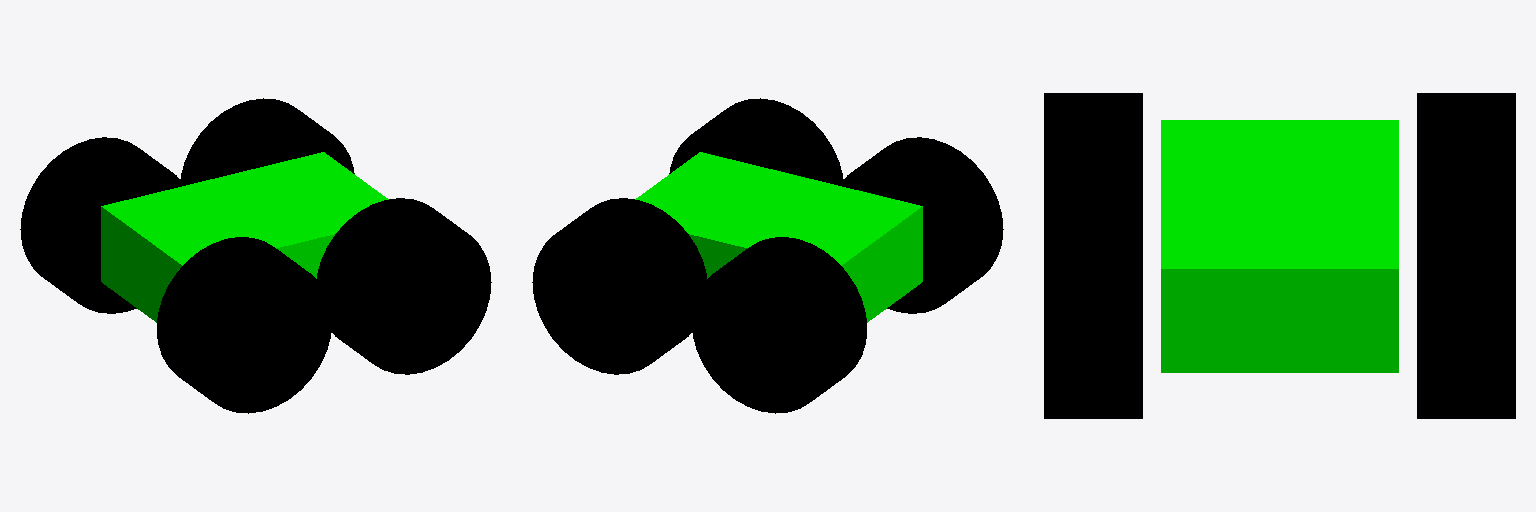
robot.urdf — mobile_manipulator:
<?xml version="1.0" encoding="utf-8"?>
<!-- =================================================================================== -->
<!-- |    This document was autogenerated by xacro from [local-path]/exp_ws/src/moma/moma_description/urdf/swaco.urdf.xacro | -->
<!-- |    EDITING THIS FILE BY HAND IS NOT RECOMMENDED                                 | -->
<!-- =================================================================================== -->
<robot name="mobile_manipulator">
  <!-- Materials -->
  <material name="black">
    <color rgba="0 0 0 255"/>
  </material>
  <material name="dark_grey">
    <color rgba="0 0 0 155 255"/>
  </material>
  <material name="blue">
    <color rgba="0 0 200 255"/>
  </material>
  <material name="green">
    <color rgba="0 200 0 255"/>
  </material>
  <material name="grey">
    <color rgba="50 50 50 255"/>
  </material>
  <material name="orange">
    <color rgba="255 108 10 255"/>
  </material>
  <material name="brown">
    <color rgba="222 207 195 255"/>
  </material>
  <material name="red">
    <color rgba="200 0 0 255"/>
  </material>
  <material name="white">
    <color rgba="255 255 255 255"/>
  </material>
  <link name="base">
    <collision>
      <origin rpy="0 0 0" xyz="0 0 0"/>
      <geometry>
        <box size="0.605 0.41 0.197"/>
      </geometry>
    </collision>
    <visual>
      <origin rpy="0 0 0" xyz="0 0 0"/>
      <geometry>
        <box size="0.605 0.41 0.197"/>
      </geometry>
      <material name="green"/>
    </visual>
  </link>
  <gazebo reference="base">
    <material>Gazebo/Green</material>
  </gazebo>
  <!-- Fixed joint to add dummy inertia link -->
  <joint name="base_to_base_inertia" type="fixed">
    <parent link="base"/>
    <child link="base_inertia"/>
    <origin rpy="0 0 0" xyz="0 0 0"/>
  </joint>
  <!-- Dummy inertia link, because KDL cannot have inertia on the base link -->
  <link name="base_inertia">
    <inertial>
      <origin rpy="0 0 0" xyz="0 0 0"/>
      <mass value="40"/>
      <inertia ixx="0.689696666667" ixy="0" ixz="0" iyy="1.34944666667" iyz="0" izz="1.34944666667"/>
    </inertial>
  </link>
  <joint name="FL_WHEEL" type="continuous">
    <parent link="base"/>
    <child link="FL_WHEEL"/>
    <origin rpy="-1.57079632679 0 0" xyz="0.2159 0.32 -0.0185"/>
    <axis rpy="0 0 0" xyz="0 0 1"/>
    <dynamics damping="1.0" friction="0.0"/>
    <limit effort="1000" velocity="1000"/>
    <joint_properties damping="0.2" friction="0.2"/>
  </joint>
  <link name="FL_WHEEL">
    <collision>
      <origin rpy="0 0 0" xyz="0 0 0"/>
      <geometry>
        <cylinder length="0.017" radius="0.19"/>
      </geometry>
    </collision>
    <visual>
      <origin rpy="0 0 0" xyz="0 0 0"/>
      <geometry>
        <cylinder length="0.17" radius="0.19"/>
      </geometry>
      <material name="black"/>
    </visual>
    <inertial>
      <origin rpy="0 0 0" xyz="0 0 0"/>
      <mass value="5"/>
      <inertia ixx="0.0571666666667" ixy="0" ixz="0" iyy="0.0571666666667" iyz="0" izz="0.09025"/>
    </inertial>
  </link>
  <joint name="FR_WHEEL" type="continuous">
    <parent link="base"/>
    <child link="FR_WHEEL"/>
    <origin rpy="-1.57079632679 0 0" xyz="0.2159 -0.32 -0.0185"/>
    <axis rpy="0 0 0" xyz="0 0 1"/>
    <dynamics damping="1.0" friction="0.0"/>
    <limit effort="1000" velocity="1000"/>
    <joint_properties damping="0.2" friction="0.2"/>
  </joint>
  <link name="FR_WHEEL">
    <collision>
      <origin rpy="0 0 0" xyz="0 0 0"/>
      <geometry>
        <cylinder length="0.017" radius="0.19"/>
      </geometry>
    </collision>
    <visual>
      <origin rpy="0 0 0" xyz="0 0 0"/>
      <geometry>
        <cylinder length="0.17" radius="0.19"/>
      </geometry>
      <material name="black"/>
    </visual>
    <inertial>
      <origin rpy="0 0 0" xyz="0 0 0"/>
      <mass value="5"/>
      <inertia ixx="0.0571666666667" ixy="0" ixz="0" iyy="0.0571666666667" iyz="0" izz="0.09025"/>
    </inertial>
  </link>
  <joint name="BL_WHEEL" type="continuous">
    <parent link="base"/>
    <child link="BL_WHEEL"/>
    <origin rpy="-1.57079632679 0 0" xyz="-0.2159 0.32 -0.0185"/>
    <axis rpy="0 0 0" xyz="0 0 1"/>
    <dynamics damping="1.0" friction="0.0"/>
    <limit effort="1000" velocity="1000"/>
    <joint_properties damping="0.2" friction="0.2"/>
  </joint>
  <link name="BL_WHEEL">
    <collision>
      <origin rpy="0 0 0" xyz="0 0 0"/>
      <geometry>
        <cylinder length="0.017" radius="0.19"/>
      </geometry>
    </collision>
    <visual>
      <origin rpy="0 0 0" xyz="0 0 0"/>
      <geometry>
        <cylinder length="0.17" radius="0.19"/>
      </geometry>
      <material name="black"/>
    </visual>
    <inertial>
      <origin rpy="0 0 0" xyz="0 0 0"/>
      <mass value="5"/>
      <inertia ixx="0.0571666666667" ixy="0" ixz="0" iyy="0.0571666666667" iyz="0" izz="0.09025"/>
    </inertial>
  </link>
  <joint name="BR_WHEEL" type="continuous">
    <parent link="base"/>
    <child link="BR_WHEEL"/>
    <origin rpy="-1.57079632679 0 0" xyz="-0.2159 -0.32 -0.0185"/>
    <axis rpy="0 0 0" xyz="0 0 1"/>
    <dynamics damping="1.0" friction="0.0"/>
    <limit effort="1000" velocity="1000"/>
    <joint_properties damping="0.2" friction="0.2"/>
  </joint>
  <link name="BR_WHEEL">
    <collision>
      <origin rpy="0 0 0" xyz="0 0 0"/>
      <geometry>
        <cylinder length="0.017" radius="0.19"/>
      </geometry>
    </collision>
    <visual>
      <origin rpy="0 0 0" xyz="0 0 0"/>
      <geometry>
        <cylinder length="0.17" radius="0.19"/>
      </geometry>
      <material name="black"/>
    </visual>
    <inertial>
      <origin rpy="0 0 0" xyz="0 0 0"/>
      <mass value="5"/>
      <inertia ixx="0.0571666666667" ixy="0" ixz="0" iyy="0.0571666666667" iyz="0" izz="0.09025"/>
    </inertial>
  </link>
  <!-- Run the macros -->
  <link name="base_link">
    <!-- <inertial>
          <origin xyz="-0.000648 -0.000166 0.084487" rpy="0 0 0" />
          <mass value="1.697" />
          <inertia ixx="0.004622" ixy="9E-06" ixz="6E-05" iyy="0.004495" iyz="9E-06" izz="0.002079" />
        </inertial> -->
    <visual>
      <origin rpy="0 0 0" xyz="0 0 0"/>
      <geometry>
        <mesh filename="meshes/base_link.STL"/>
      </geometry>
      <material name="">
        <color rgba="0.75294 0.75294 0.75294 1"/>
      </material>
    </visual>
    <collision>
      <origin rpy="0 0 0" xyz="0 0 0"/>
      <geometry>
        <mesh filename="meshes/base_link.STL"/>
      </geometry>
    </collision>
  </link>
  <link name="base_link_dummy">
    <inertial>
      <origin rpy="0 0 0" xyz="-0.000648 -0.000166 0.084487"/>
      <mass value="1.697"/>
      <inertia ixx="0.004622" ixy="9E-06" ixz="6E-05" iyy="0.004495" iyz="9E-06" izz="0.002079"/>
    </inertial>
  </link>
  <joint name="base_dummy_joint" type="fixed">
    <origin rpy="0.0 0.0 0.0" xyz="0 0 0"/>
    <parent link="base_link"/>
    <child link="base_link_dummy"/>
  </joint>
  <link name="shoulder_link">
    <inertial>
      <origin rpy="0 0 0" xyz="-2.3E-05 -0.010364 -0.07336"/>
      <mass value="1.3773"/>
      <inertia ixx="0.00457" ixy="1E-06" ixz="2E-06" iyy="0.004831" iyz="0.000448" izz="0.001409"/>
    </inertial>
    <visual>
      <origin rpy="0 0 0" xyz="0 0 0"/>
      <geometry>
        <mesh filename="meshes/shoulder_link.STL"/>
      </geometry>
      <material name="">
        <color rgba="0.75294 0.75294 0.75294 1"/>
      </material>
    </visual>
    <collision>
      <origin rpy="0 0 0" xyz="0 0 0"/>
      <geometry>
        <mesh filename="meshes/shoulder_link.STL"/>
      </geometry>
    </collision>
  </link>
  <joint name="joint_1" type="continuous">
    <origin rpy="3.1416 2.7629E-18 -4.9305E-36" xyz="0 0 0.15643"/>
    <parent link="base_link"/>
    <child link="shoulder_link"/>
    <axis xyz="0 0 1"/>
    <limit effort="39" velocity="1.3963"/>
  </joint>
  <link name="half_arm_1_link">
    <inertial>
      <origin rpy="0 0 0" xyz="-4.4E-05 -0.09958 -0.013278"/>
      <mass value="1.1636"/>
      <inertia ixx="0.011088" ixy="5E-06" ixz="0" iyy="0.001072" iyz="-0.000691" izz="0.011255"/>
    </inertial>
    <visual>
      <origin rpy="0 0 0" xyz="0 0 0"/>
      <geometry>
        <mesh filename="meshes/half_arm_1_link.STL"/>
      </geometry>
      <material name="">
        <color rgba="0.75294 0.75294 0.75294 1"/>
      </material>
    </visual>
    <collision>
      <origin rpy="0 0 0" xyz="0 0 0"/>
      <geometry>
        <mesh filename="meshes/half_arm_1_link.STL"/>
      </geometry>
    </collision>
  </link>
  <joint name="joint_2" type="revolute">
    <origin rpy="1.5708 2.1343E-17 -1.1102E-16" xyz="0 0.005375 -0.12838"/>
    <parent link="shoulder_link"/>
    <child link="half_arm_1_link"/>
    <axis xyz="0 0 1"/>
    <limit effort="39" lower="-2.41" upper="2.41" velocity="1.3963"/>
  </joint>
  <link name="half_arm_2_link">
    <inertial>
      <origin rpy="0 0 0" xyz="-4.4E-05 -0.006641 -0.117892"/>
      <mass value="1.1636"/>
      <inertia ixx="0.010932" ixy="0" ixz="-7E-06" iyy="0.011127" iyz="0.000606" izz="0.001043"/>
    </inertial>
    <visual>
      <origin rpy="0 0 0" xyz="0 0 0"/>
      <geometry>
        <mesh filename="meshes/half_arm_2_link.STL"/>
      </geometry>
      <material name="">
        <color rgba="0.75294 0.75294 0.75294 1"/>
      </material>
    </visual>
    <collision>
      <origin rpy="0 0 0" xyz="0 0 0"/>
      <geometry>
        <mesh filename="meshes/half_arm_2_link.STL"/>
      </geometry>
    </collision>
  </link>
  <joint name="joint_3" type="continuous">
    <origin rpy="-1.5708 1.2326E-32 -2.9122E-16" xyz="0 -0.21038 -0.006375"/>
    <parent link="half_arm_1_link"/>
    <child link="half_arm_2_link"/>
    <axis xyz="0 0 1"/>
    <limit effort="39" velocity="1.3963"/>
  </joint>
  <link name="forearm_link">
    <inertial>
      <origin rpy="0 0 0" xyz="-1.8E-05 -0.075478 -0.015006"/>
      <mass value="0.9302"/>
      <inertia ixx="0.008147" ixy="-1E-06" ixz="0" iyy="0.000631" iyz="-0.0005" izz="0.008316"/>
    </inertial>
    <visual>
      <origin rpy="0 0 0" xyz="0 0 0"/>
      <geometry>
        <mesh filename="meshes/forearm_link.STL"/>
      </geometry>
      <material name="">
        <color rgba="0.75294 0.75294 0.75294 1"/>
      </material>
    </visual>
    <collision>
      <origin rpy="0 0 0" xyz="0 0 0"/>
      <geometry>
        <mesh filename="meshes/forearm_link.STL"/>
      </geometry>
    </collision>
  </link>
  <joint name="joint_4" type="revolute">
    <origin rpy="1.5708 -6.6954E-17 -1.6653E-16" xyz="0 0.006375 -0.21038"/>
    <parent link="half_arm_2_link"/>
    <child link="forearm_link"/>
    <axis xyz="0 0 1"/>
    <limit effort="39" lower="-2.66" upper="2.66" velocity="1.3963"/>
  </joint>
  <link name="spherical_wrist_1_link">
    <inertial>
      <origin rpy="0 0 0" xyz="1E-06 -0.009432 -0.063883"/>
      <mass value="0.6781"/>
      <inertia ixx="0.001596" ixy="0" ixz="0" iyy="0.001607" iyz="0.000256" izz="0.000399"/>
    </inertial>
    <visual>
      <origin rpy="0 0 0" xyz="0 0 0"/>
      <geometry>
        <mesh filename="meshes/spherical_wrist_1_link.STL"/>
      </geometry>
      <material name="">
        <color rgba="0.75294 0.75294 0.75294 1"/>
      </material>
    </visual>
    <collision>
      <origin rpy="0 0 0" xyz="0 0 0"/>
      <geometry>
        <mesh filename="meshes/spherical_wrist_1_link.STL"/>
      </geometry>
    </collision>
  </link>
  <joint name="joint_5" type="continuous">
    <origin rpy="-1.5708 2.2204E-16 -6.373E-17" xyz="0 -0.20843 -0.006375"/>
    <parent link="forearm_link"/>
    <child link="spherical_wrist_1_link"/>
    <axis xyz="0 0 1"/>
    <limit effort="9" velocity="1.2218"/>
  </joint>
  <link name="spherical_wrist_2_link">
    <inertial>
      <origin rpy="0 0 0" xyz="1E-06 -0.045483 -0.00965"/>
      <mass value="0.6781"/>
      <inertia ixx="0.001641" ixy="0" ixz="0" iyy="0.00041" iyz="-0.000278" izz="0.001641"/>
    </inertial>
    <visual>
      <origin rpy="0 0 0" xyz="0 0 0"/>
      <geometry>
        <mesh filename="meshes/spherical_wrist_2_link.STL"/>
      </geometry>
      <material name="">
        <color rgba="0.75294 0.75294 0.75294 1"/>
      </material>
    </visual>
    <collision>
      <origin rpy="0 0 0" xyz="0 0 0"/>
      <geometry>
        <mesh filename="meshes/spherical_wrist_2_link.STL"/>
      </geometry>
    </collision>
  </link>
  <joint name="joint_6" type="revolute">
    <origin rpy="1.5708 9.2076E-28 -8.2157E-15" xyz="0 0.00017505 -0.10593"/>
    <parent link="spherical_wrist_1_link"/>
    <child link="spherical_wrist_2_link"/>
    <axis xyz="0 0 1"/>
    <limit effort="9" lower="-2.23" upper="2.23" velocity="1.2218"/>
  </joint>
  <link name="bracelet_link">
    <inertial>
      <origin rpy="0 0 0" xyz="0.000281 0.011402 -0.029798"/>
      <mass value="0.5"/>
      <inertia ixx="0.000587" ixy="3E-06" ixz="3E-06" iyy="0.000369" iyz="-0.000118" izz="0.000609"/>
    </inertial>
    <visual>
      <origin rpy="0 0 0" xyz="0 0 0"/>
      <geometry>
        <mesh filename="meshes/bracelet_with_vision_link.STL"/>
      </geometry>
      <material name="">
        <color rgba="0.75294 0.75294 0.75294 1"/>
      </material>
    </visual>
    <collision>
      <origin rpy="0 0 0" xyz="0 0 0"/>
      <geometry>
        <mesh filename="meshes/bracelet_with_vision_link.STL"/>
      </geometry>
    </collision>
  </link>
  <joint name="joint_7" type="continuous">
    <origin rpy="-1.5708 -5.5511E-17 9.6396E-17" xyz="0 -0.10593 -0.00017505"/>
    <parent link="spherical_wrist_2_link"/>
    <child link="bracelet_link"/>
    <axis xyz="0 0 1"/>
    <limit effort="9" velocity="1.2218"/>
  </joint>
  <link name="end_effector_link">
    <inertial>
      <origin rpy="0 0 0" xyz="0 0 0"/>
      <mass value="0.01"/>
      <inertia ixx="0.0" ixy="0.0" ixz="0.0" iyy="0.0" iyz="0.0" izz="0.0"/>
    </inertial>
  </link>
  <joint name="end_effector" type="fixed">
    <origin rpy="3.14159265358979 1.09937075168372E-32 0" xyz="0 0 -0.0615250000000001"/>
    <parent link="bracelet_link"/>
    <child link="end_effector_link"/>
    <axis xyz="0 0 0"/>
  </joint>
  <!-- robotiq_2f_85 -->
  <!-- Interface link for mobile base-->
  <link name="manipulator_base"/>
  <joint name="manipulator_base_to_root" type="fixed">
    <child link="base_link"/>
    <parent link="manipulator_base"/>
    <origin rpy="0 0 0" xyz="0 0 0"/>
  </joint>
  <!-- Connect the base with the arm  -->
  <joint name="base_to_manipulator_base" type="fixed">
    <parent link="base"/>
    <child link="manipulator_base"/>
    <origin rpy="0 0 1.57079" xyz="0.3 0 0.1"/>
  </joint>
</robot>

--- Render facts (derived) ---
3 views of the same robot in one strip: view 1: azimuth 30°, elevation 25°; view 2: azimuth 150°, elevation 25°; view 3: azimuth 270°, elevation 25° (orthographic).
Model mobile_manipulator with 17 links and 16 joints (3 revolute, 8 continuous, 5 fixed), rooted at base, posed all joints at 0.
Visible links, largest first — view 1: BR_WHEEL, FR_WHEEL, base, BL_WHEEL, FL_WHEEL; view 2: BL_WHEEL, FL_WHEEL, base, BR_WHEEL, FR_WHEEL; view 3: base, FL_WHEEL, FR_WHEEL, BL_WHEEL, BR_WHEEL.
Link boxes in pixels (<box>): BR_WHEEL: <box>157,237,332,413</box>; FR_WHEEL: <box>317,198,491,374</box>; base: <box>101,152,388,322</box>; BL_WHEEL: <box>20,137,185,313</box>; FL_WHEEL: <box>180,98,354,184</box>; BL_WHEEL: <box>691,237,866,413</box>; FL_WHEEL: <box>532,198,706,374</box>; base: <box>635,152,922,322</box>; BR_WHEEL: <box>838,137,1003,313</box>; FR_WHEEL: <box>669,98,843,184</box>; base: <box>1161,120,1398,372</box>; FL_WHEEL: <box>1417,199,1515,418</box>; FR_WHEEL: <box>1044,199,1142,418</box>; BL_WHEEL: <box>1417,93,1515,198</box>; BR_WHEEL: <box>1044,93,1142,198</box>.
Size in the robot's own frame: 0.8118 by 0.81 by 0.38 metres.
0 mesh visuals loaded from 8 distinct referenced files (none loaded); not drawn: 8 (reference not matched to a file when rendering).